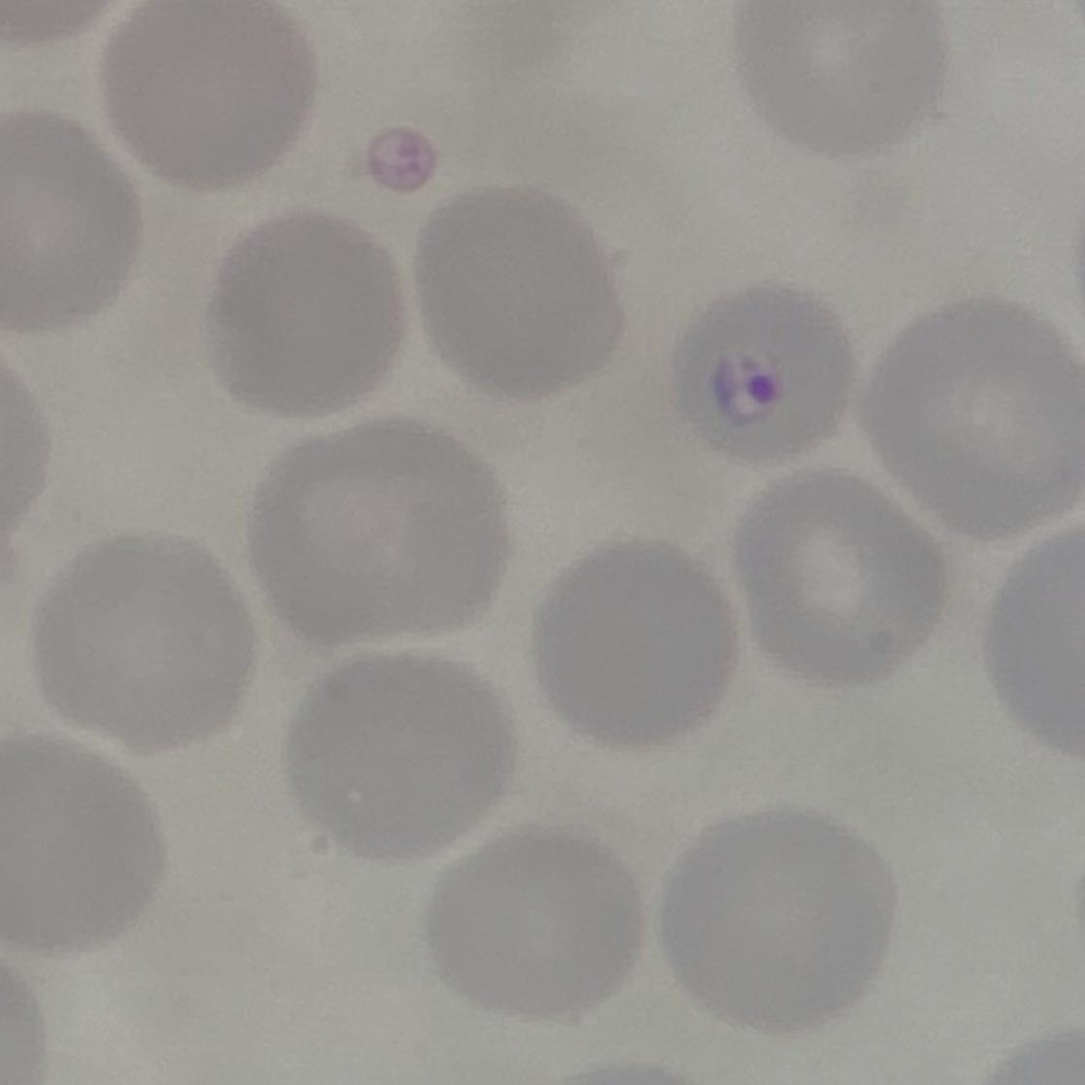Infected: (666, 276, 858, 467)
Uninfected: (249, 415, 509, 652), (873, 305, 1085, 545), (36, 525, 254, 749), (659, 809, 881, 1028), (294, 651, 509, 868), (420, 176, 623, 404), (537, 531, 743, 754), (730, 473, 937, 678), (210, 208, 407, 422), (420, 822, 633, 1019), (103, 1, 317, 193), (0, 725, 159, 952), (0, 98, 147, 333), (743, 0, 942, 161)
